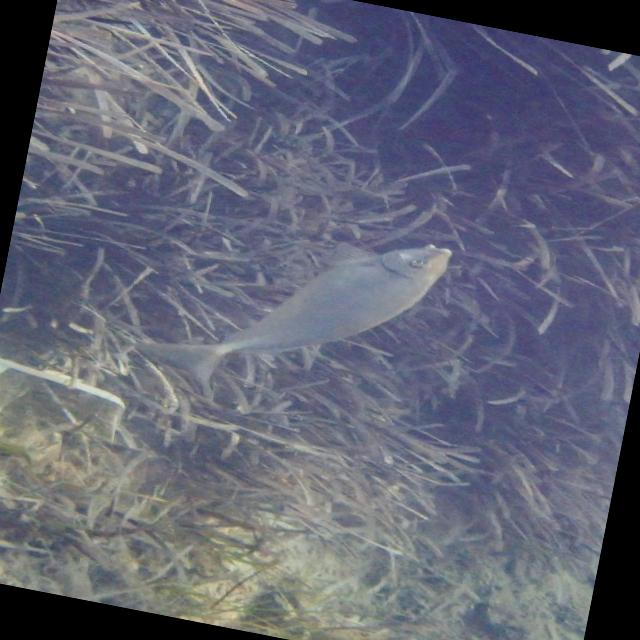Sokar Baligi: (124, 180, 486, 445)
